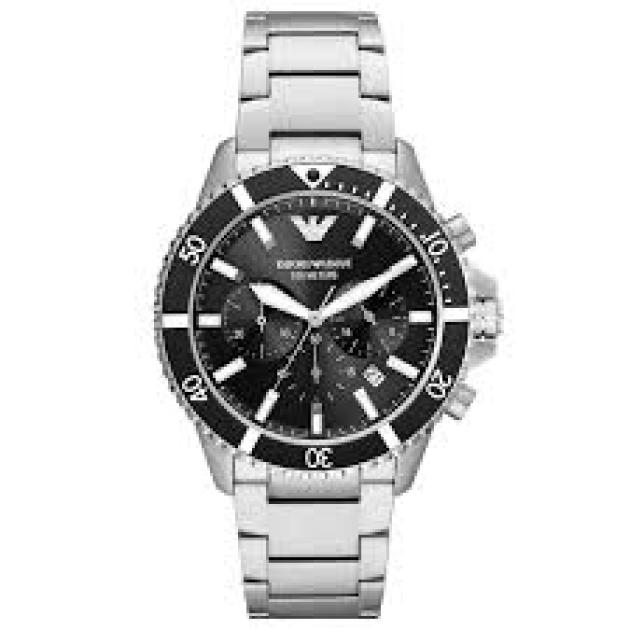wristwatch: (154, 11, 500, 623)
